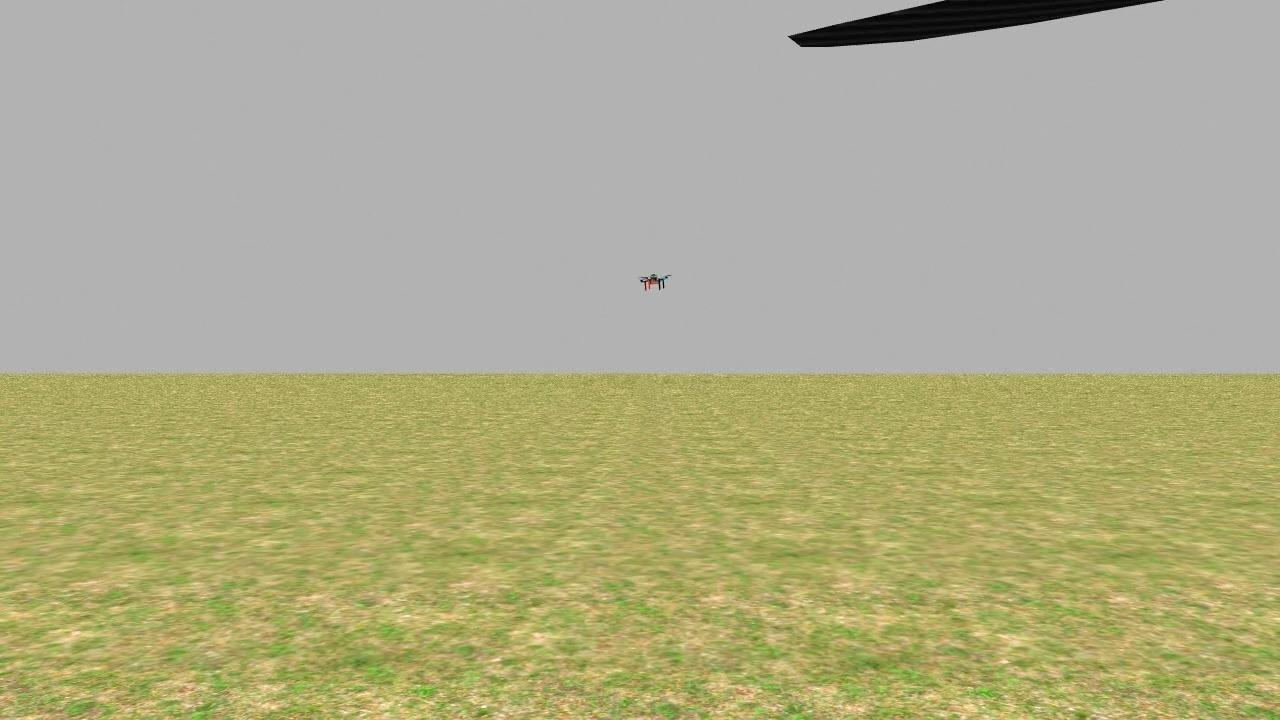UAV: (633, 263, 677, 301)
